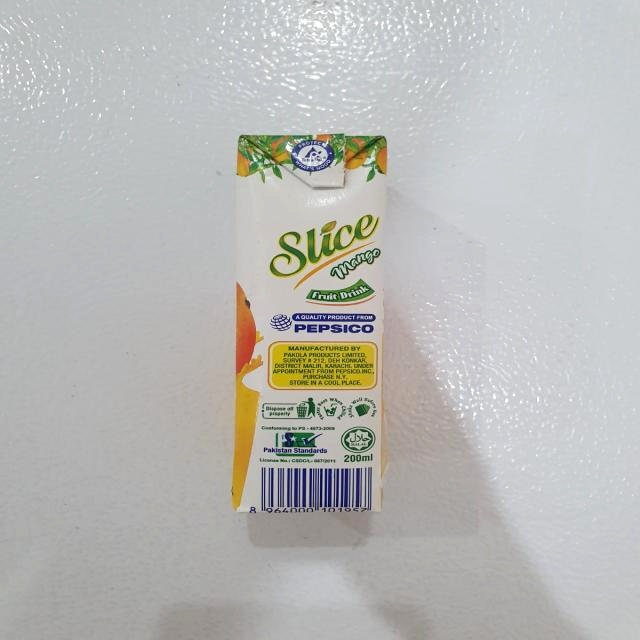slice-200ml: (241, 138, 385, 509)
